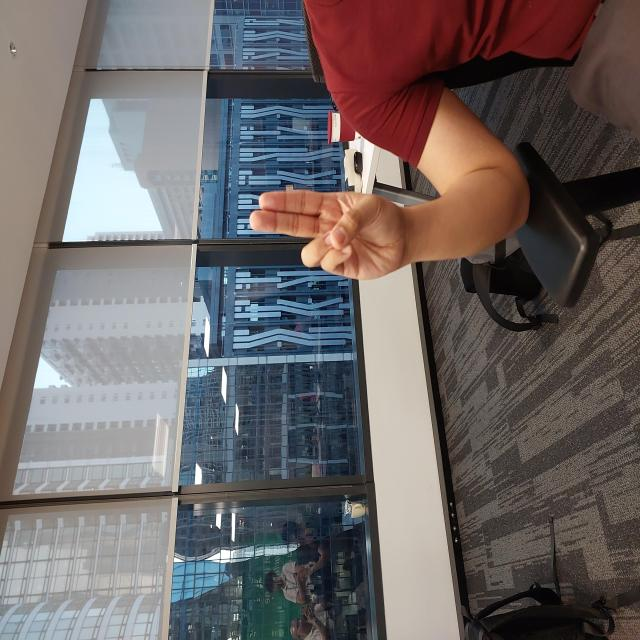U: (358, 248, 454, 410)
